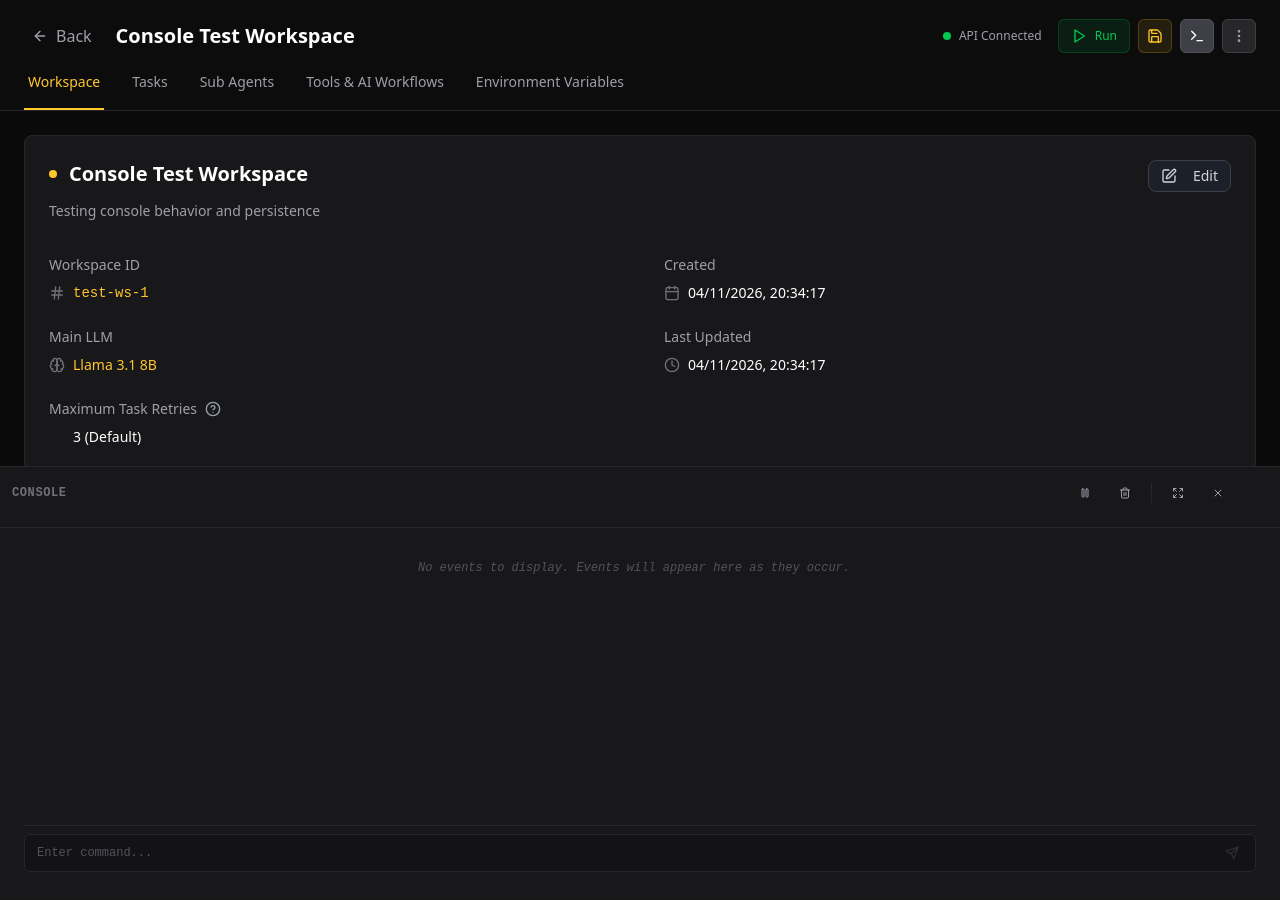
Test: WorkspaceCanvas - Console Panel Consistency & Session Persistence › should toggle console back open and persist 'true' to sessionStorage when clicked again
First toggle to close
Click the button named "Close Console". click: (1197, 36)
box: [1180,19,1214,53]
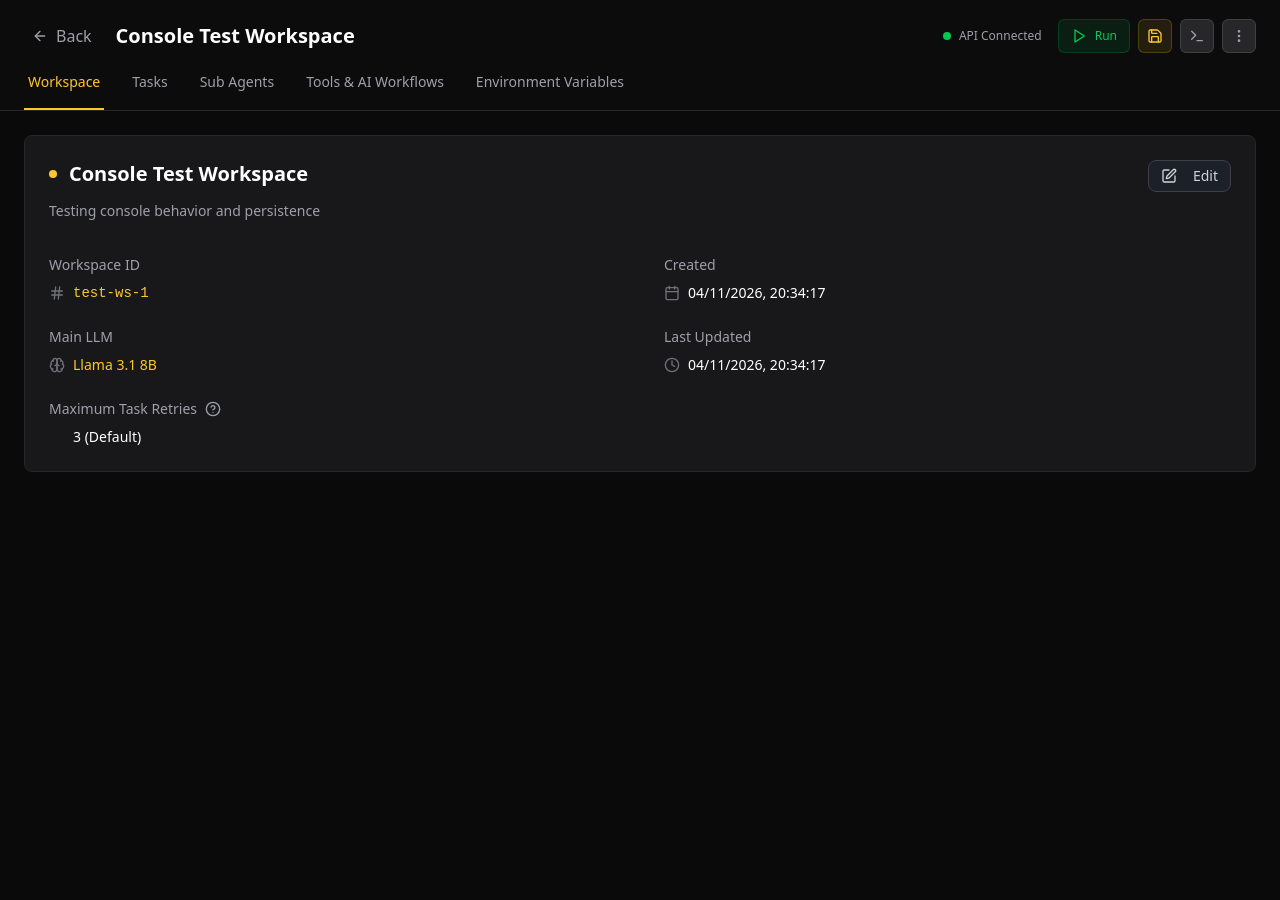
Second toggle to re-open
Click the button named "Open Console". click: (1197, 36)
box: [1180,19,1214,53]
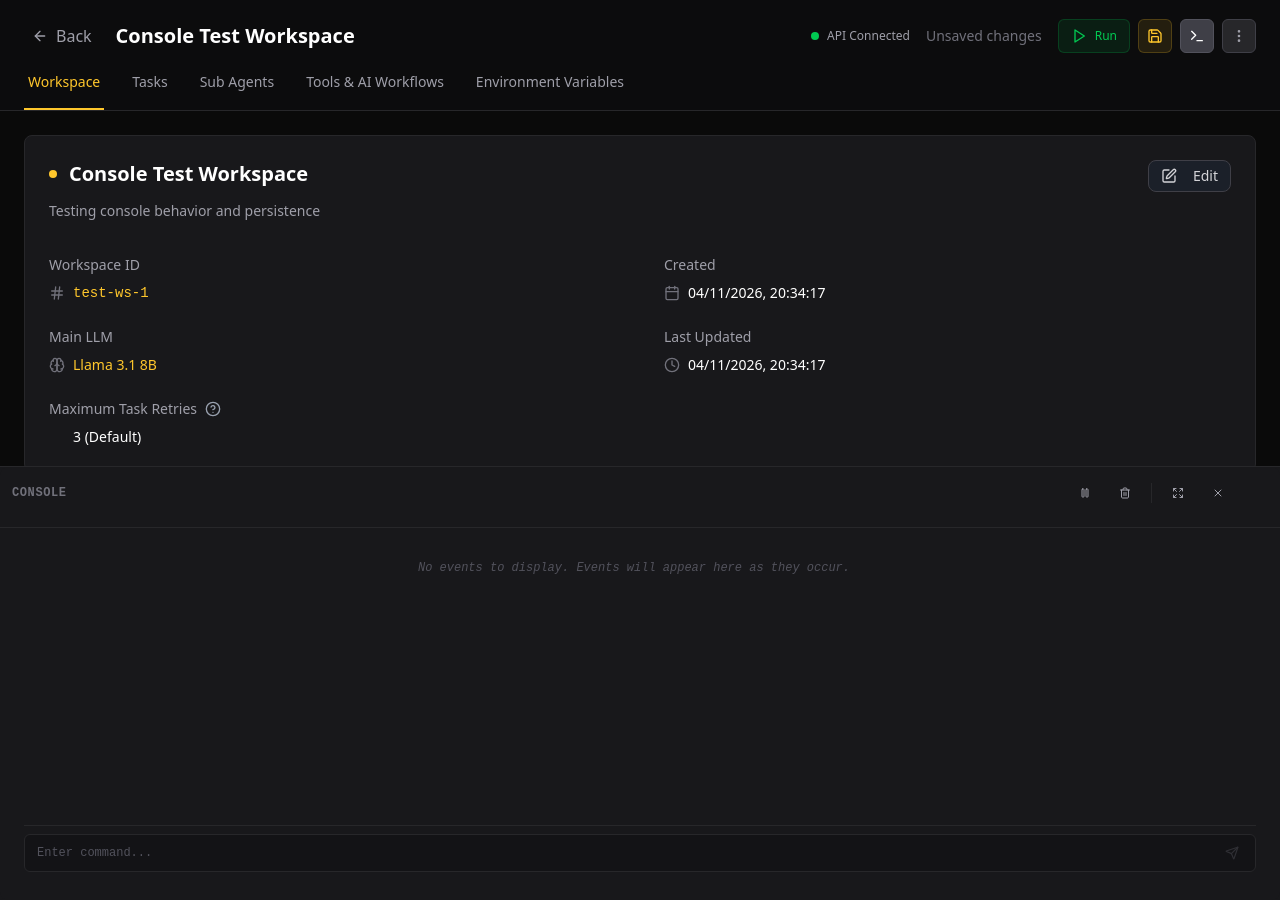
Check: the button named "Close Console" is shown, box [1180,19,1214,53]
